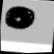correct: (3, 2, 38, 32)
